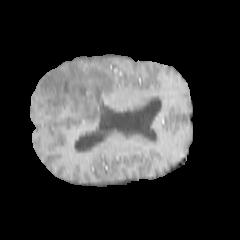glioma: (38, 62, 115, 134)
